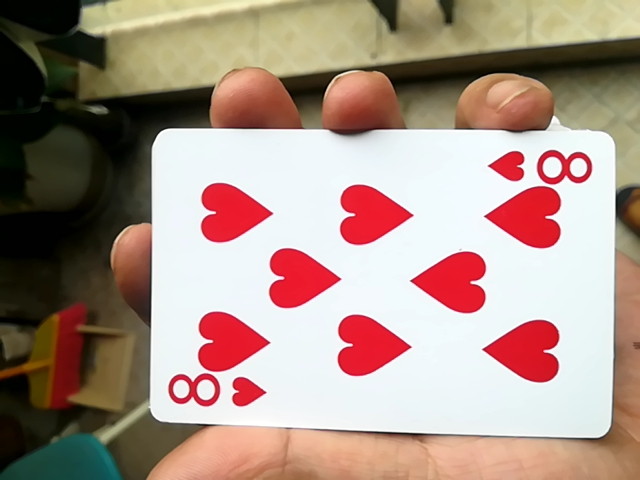hx 8: (131, 125, 600, 443)
